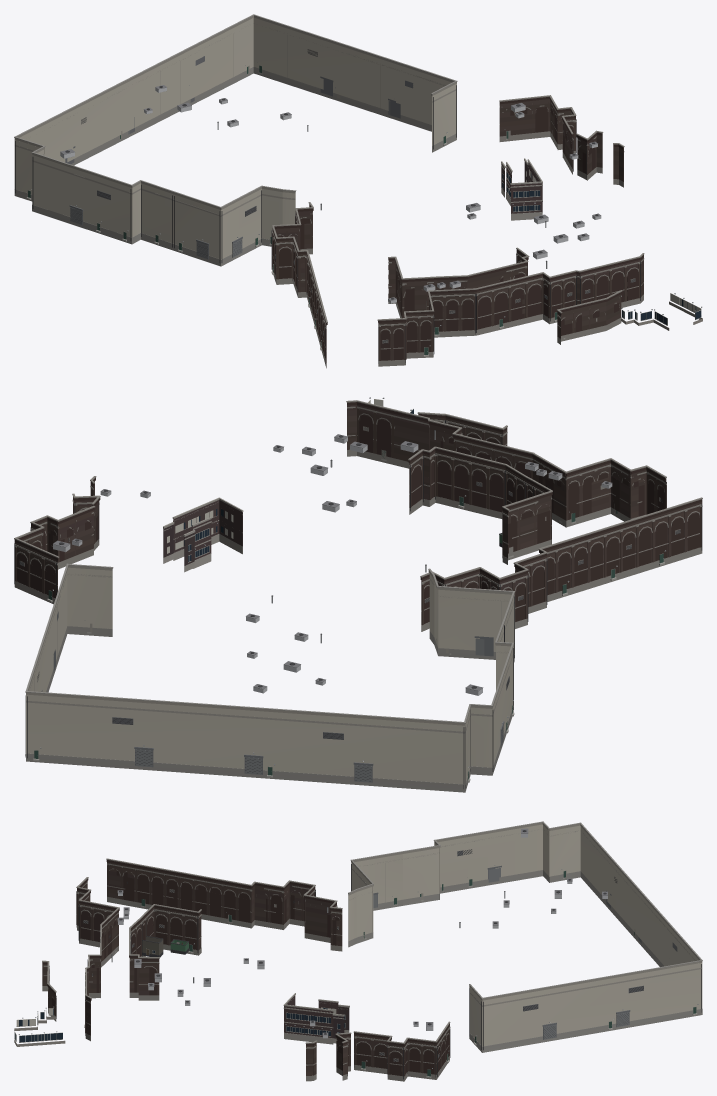
Rendered from diagon-fillers.glb.
3 views of the same model, one above another, from view 1: azimuth 30°, elevation 25°; view 2: azimuth 150°, elevation 25°; view 3: azimuth 270°, elevation 25° (orthographic). The views are drawn at different scales.
Visible parts, largest first — view 1: diagon-fillers-paint, diagon-fillers-concrete, diagon-fillers-metal, diagon-fillers-glass; view 2: diagon-fillers-concrete, diagon-fillers-paint, diagon-fillers-metal; view 3: diagon-fillers-paint, diagon-fillers-concrete, diagon-fillers-metal, diagon-fillers-glass.
Part boxes in pixels (left/top/right/bottom): diagon-fillers-paint: left=14, top=17, right=701, bottom=354; diagon-fillers-concrete: left=14, top=14, right=702, bottom=368; diagon-fillers-metal: left=15, top=62, right=702, bottom=365; diagon-fillers-glass: left=502, top=172, right=701, bottom=324; diagon-fillers-concrete: left=14, top=400, right=702, bottom=792; diagon-fillers-paint: left=15, top=399, right=701, bottom=784; diagon-fillers-metal: left=14, top=397, right=702, bottom=788; diagon-fillers-paint: left=15, top=824, right=702, bottom=1076; diagon-fillers-concrete: left=14, top=821, right=702, bottom=1081; diagon-fillers-metal: left=14, top=830, right=701, bottom=1079; diagon-fillers-glass: left=14, top=950, right=345, bottom=1042.
Size of the model in its own units: 154 by 20.31 by 213.
